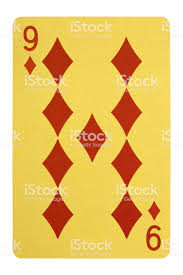nine of diamonds: (13, 18, 170, 257)
